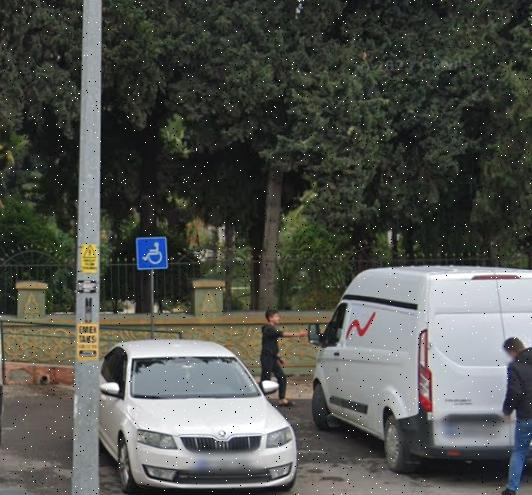disabledpark: (136, 238, 168, 270)
